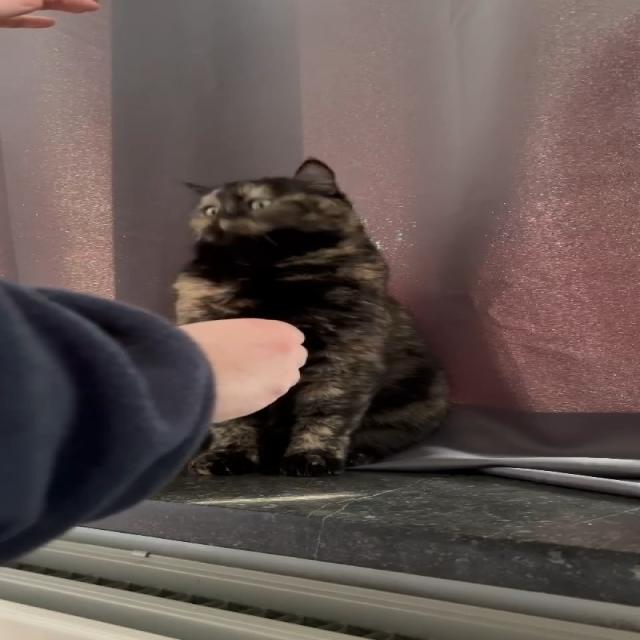authorized: (170, 157, 450, 477)
